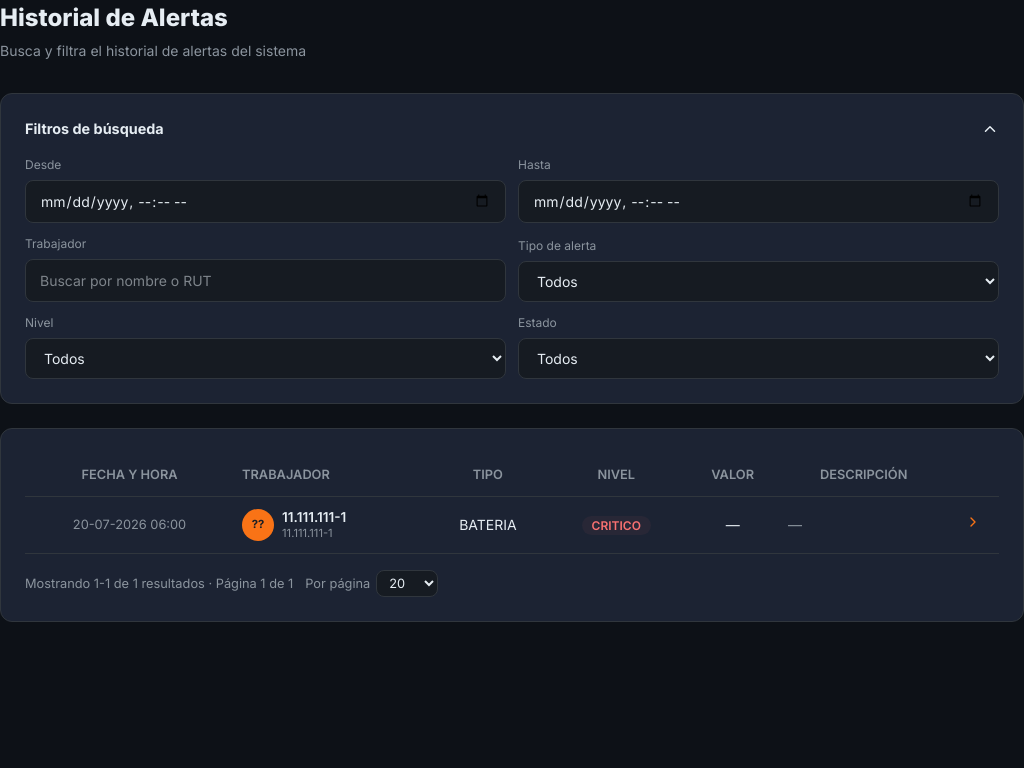
Test: HistorialAlertasClient - filtros combinados y paginación coherente › con resultados, el contador refleja el total filtrado por el servidor
Select "CRITICO" in the 2nd dropdown at (266, 358), box [25,338,506,379]
(page scrolled)
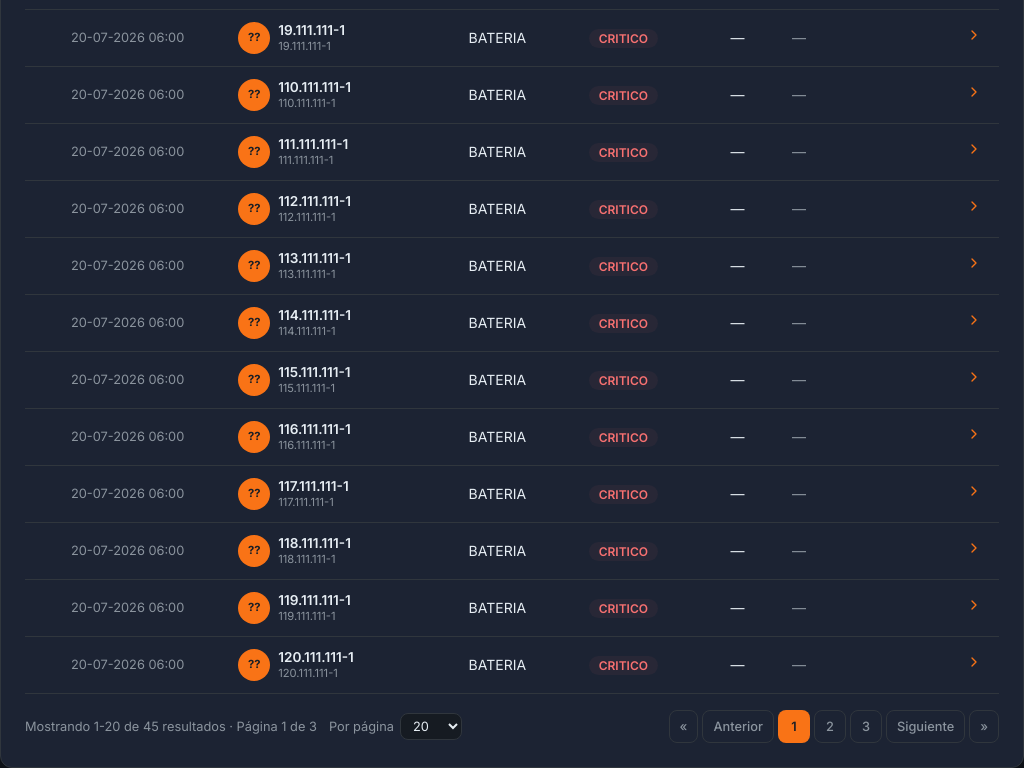
expect the text "Mostrando 1-20 de 45 resultados · Página 1 de 3" is shown: met, box [25,717,317,736]
